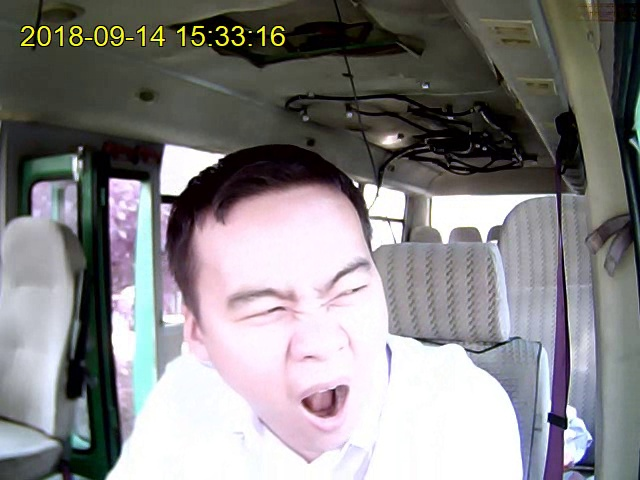open_mouth: (290, 373, 352, 436)
